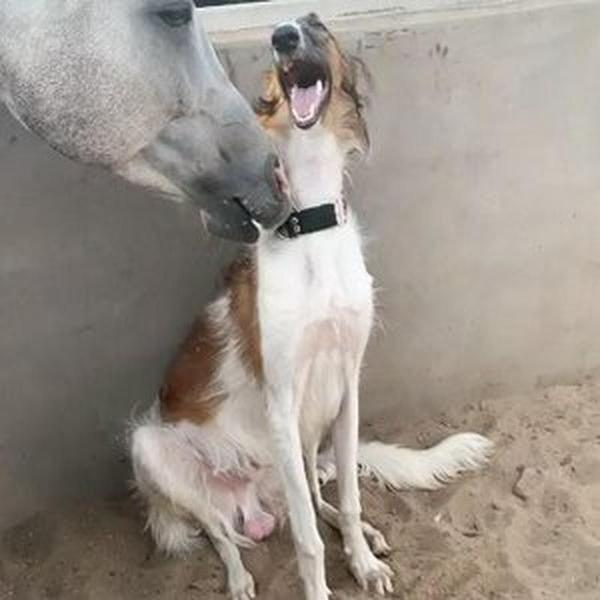allqu: (127, 16, 491, 591)
